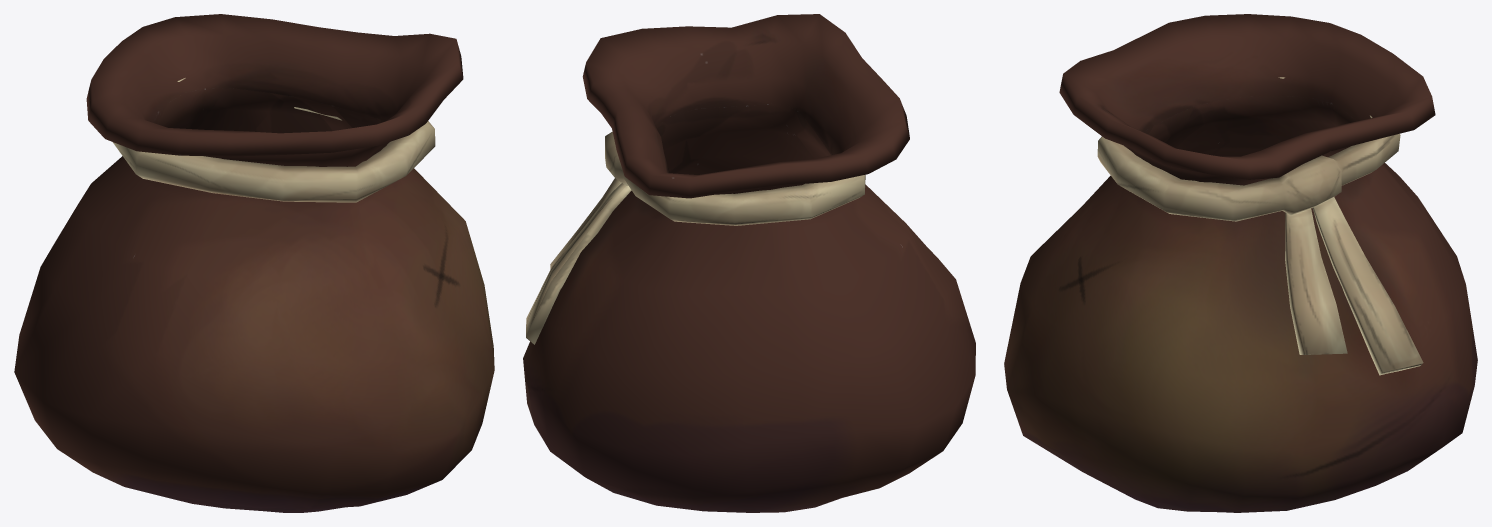
The model's file is Bag.fbx.
The picture shows the model from 3 angles, left to right: view 1: azimuth 30°, elevation 25°; view 2: azimuth 150°, elevation 25°; view 3: azimuth 270°, elevation 25°; orthographic projection. The views are drawn at different scales.
Parts seen in each view (by area): view 1: Bag; view 2: Bag; view 3: Bag.
Boxes of the visible parts, x1=… form: Bag: x1=14, y1=14, x2=494, y2=512; Bag: x1=523, y1=14, x2=975, y2=512; Bag: x1=1004, y1=14, x2=1477, y2=512.
Size of the model in its own units: 29771 by 28794 by 29982.
